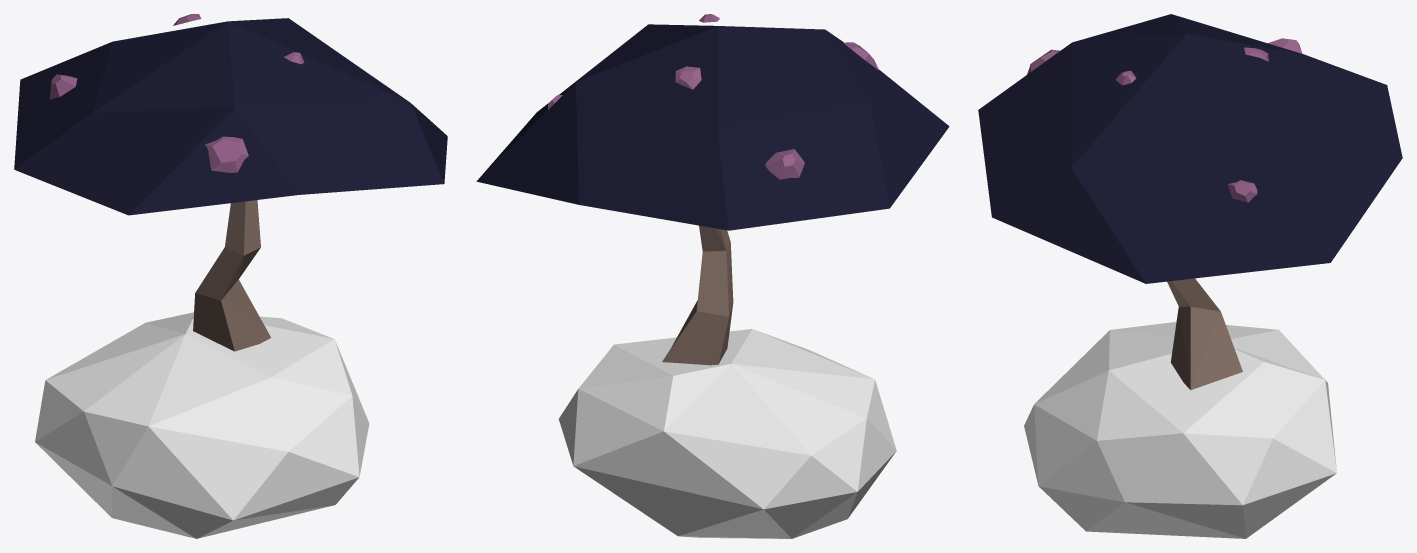
Rendered from low_poly_mushroom_v1.fbx.
3 views of the same model, side by side, from view 1: azimuth 30°, elevation 25°; view 2: azimuth 150°, elevation 25°; view 3: azimuth 270°, elevation 25° (orthographic).
Parts seen in each view (by area): view 1: Mushroom head top.001, Ground.001, Mushroom stem.001, Dot 5.001; view 2: Mushroom head top.001, Ground.001, Mushroom stem.001, Dot 4.001; view 3: Mushroom head top.001, Ground.001, Mushroom stem.001.
Part boxes in pixels (x1,y1,x2,y2): Mushroom head top.001: [14, 18, 447, 215]; Ground.001: [35, 312, 369, 538]; Mushroom stem.001: [193, 200, 270, 351]; Dot 5.001: [205, 136, 248, 172]; Mushroom head top.001: [476, 24, 949, 230]; Ground.001: [559, 329, 896, 538]; Mushroom stem.001: [662, 225, 733, 365]; Dot 4.001: [765, 149, 804, 179]; Mushroom head top.001: [978, 14, 1402, 283]; Ground.001: [1024, 322, 1336, 538]; Mushroom stem.001: [1167, 278, 1242, 390].
Size of the model in its own units: 614 by 735 by 568.
